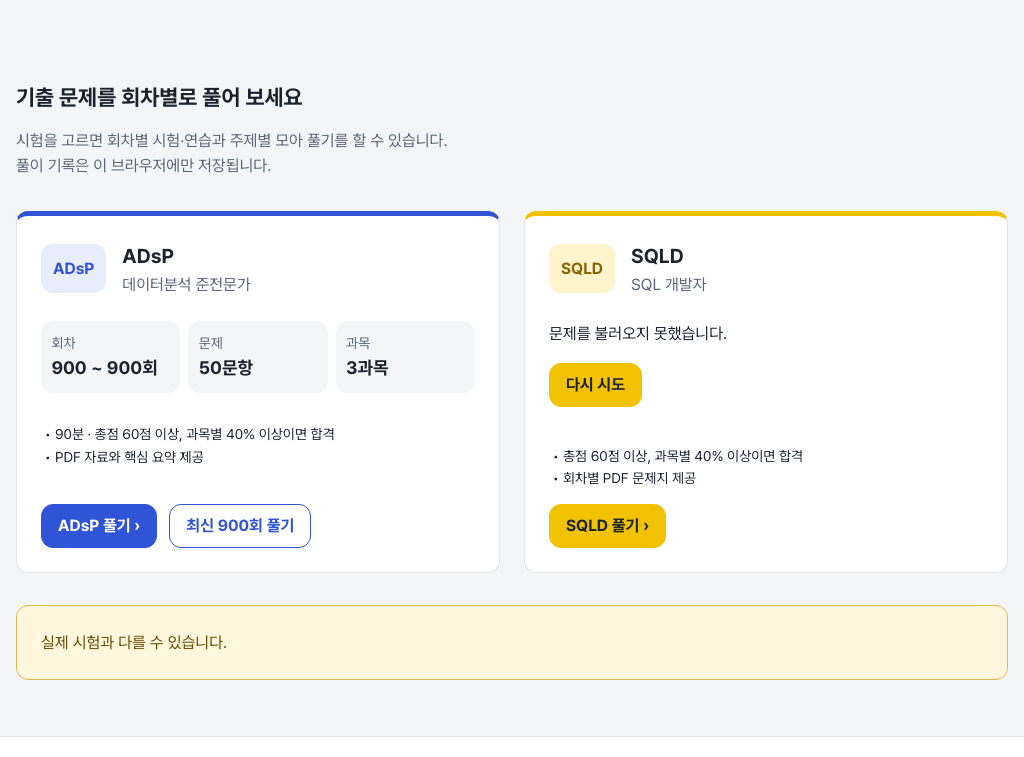
Test: hub card failure for sqld leaves the other card usable and retries independently
(page scrolled)
Expected: the text "문제를 불러오지 못했습니다." is shown, [549,324,727,343]
Expected: the text "900 ~ 900회" is shown, [51,354,170,383]
Click the button "다시 시도" at (596, 385), box [549,363,642,407]
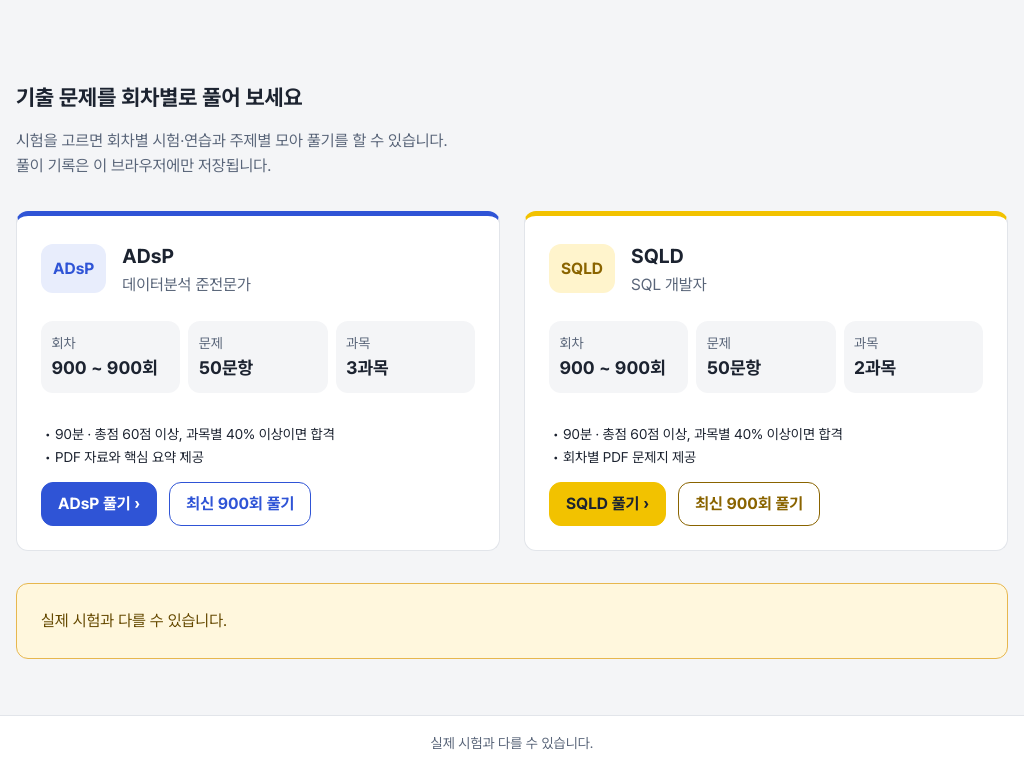
Result: the text "900 ~ 900회" is shown 2 times at [51,354,170,383]; [559,354,678,383]
